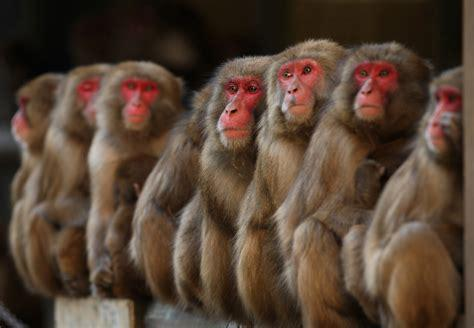monkey: (279, 42, 430, 328), (238, 41, 349, 324), (365, 68, 463, 328), (88, 62, 183, 295), (25, 66, 110, 295), (202, 56, 272, 314), (9, 74, 62, 295)
